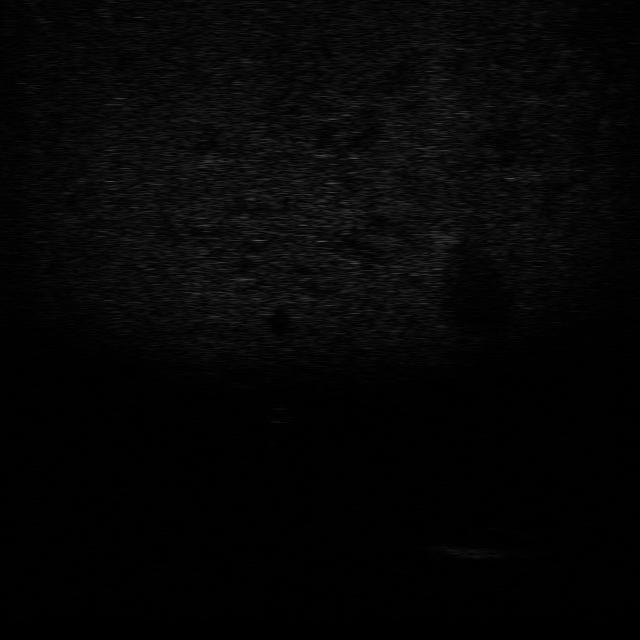ball: (260, 403, 296, 426)
metal bucket: (436, 542, 520, 565)
tyre: (470, 518, 536, 542)
